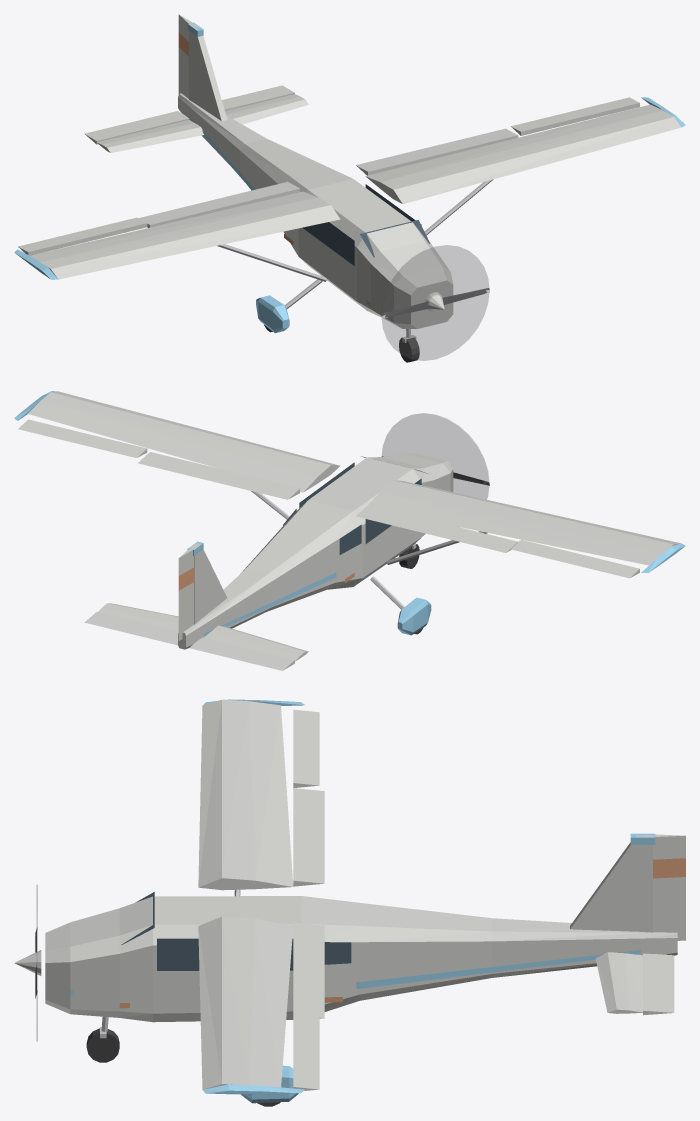
Rendered from hornero-h160.glb.
3 renders of one model, top to bottom at view 1: azimuth 30°, elevation 25°; view 2: azimuth 150°, elevation 25°; view 3: azimuth 270°, elevation 25°, orthographic. The views are drawn at different scales.
Visible parts, largest first — view 1: body, propdisc, fin, flap_l, flap_r, elevator, aileron_r, aileron_l, pants, propeller, rudder; view 2: body, propdisc, elevator, flap_l, flap_r, fin, aileron_l, aileron_r, rudder, pants; view 3: body, fin, rudder, flap_r, flap_l, aileron_r, aileron_l, elevator, pants.
Boxes of the visible parts, x1,y1,x2,y2 form: body: (14,93,685,362); propdisc: (381,245,488,360); fin: (187,22,227,120); flap_l: (356,128,518,175); flap_r: (138,181,299,227); elevator: (84,85,294,144); aileron_r: (18,217,147,255); aileron_l: (511,97,639,135); pants: (256,295,289,333); propeller: (381,288,489,318); rudder: (178,14,192,98); body: (14,391,685,661); propdisc: (382,413,489,499); elevator: (84,612,294,670); flap_l: (138,452,299,499); flap_r: (356,505,517,552); fin: (187,541,227,624); aileron_l: (18,419,147,457); aileron_r: (511,539,639,578); rudder: (178,549,194,640); pants: (397,597,431,635); body: (45,699,677,1106); fin: (570,833,655,932); rudder: (653,834,685,940); flap_r: (293,788,324,886); flap_l: (293,922,324,1018); aileron_r: (293,709,319,787); aileron_l: (293,1013,319,1090); elevator: (643,953,674,1015); pants: (241,1065,298,1103).
Bounding box in the file's own units: 11.2 × 2.99 × 8.13.
